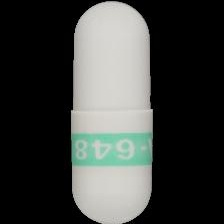58118-0645: (0, 0, 224, 224)
